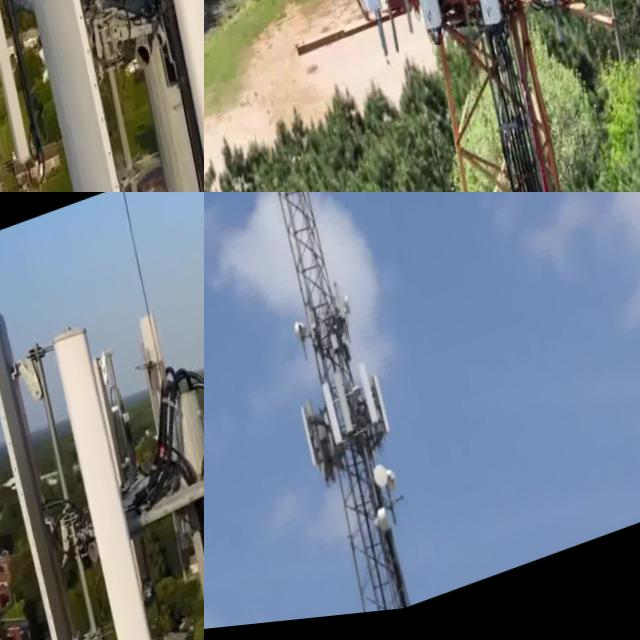GSM Antenna: (21, 304, 204, 640), (0, 285, 131, 640), (64, 331, 195, 640), (0, 0, 192, 192), (85, 0, 204, 192), (125, 292, 204, 491), (0, 0, 75, 187), (440, 0, 524, 48), (381, 0, 466, 47), (333, 370, 370, 451), (299, 403, 336, 484), (358, 361, 394, 442), (320, 381, 357, 459), (333, 0, 402, 34), (372, 378, 404, 451), (334, 283, 357, 331)
Microwave Antenna: (293, 312, 322, 360), (376, 464, 403, 504), (381, 510, 405, 546), (343, 294, 365, 330), (390, 471, 408, 500)
